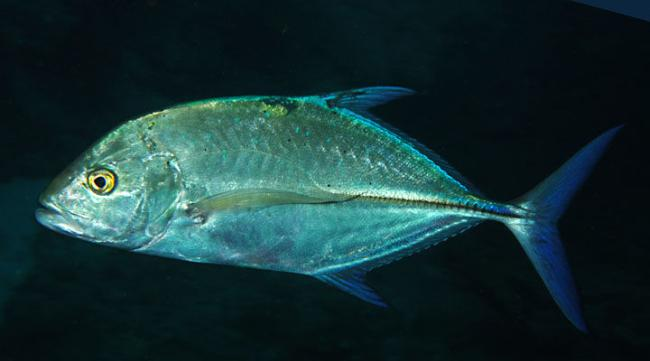fish: (35, 86, 621, 330)
